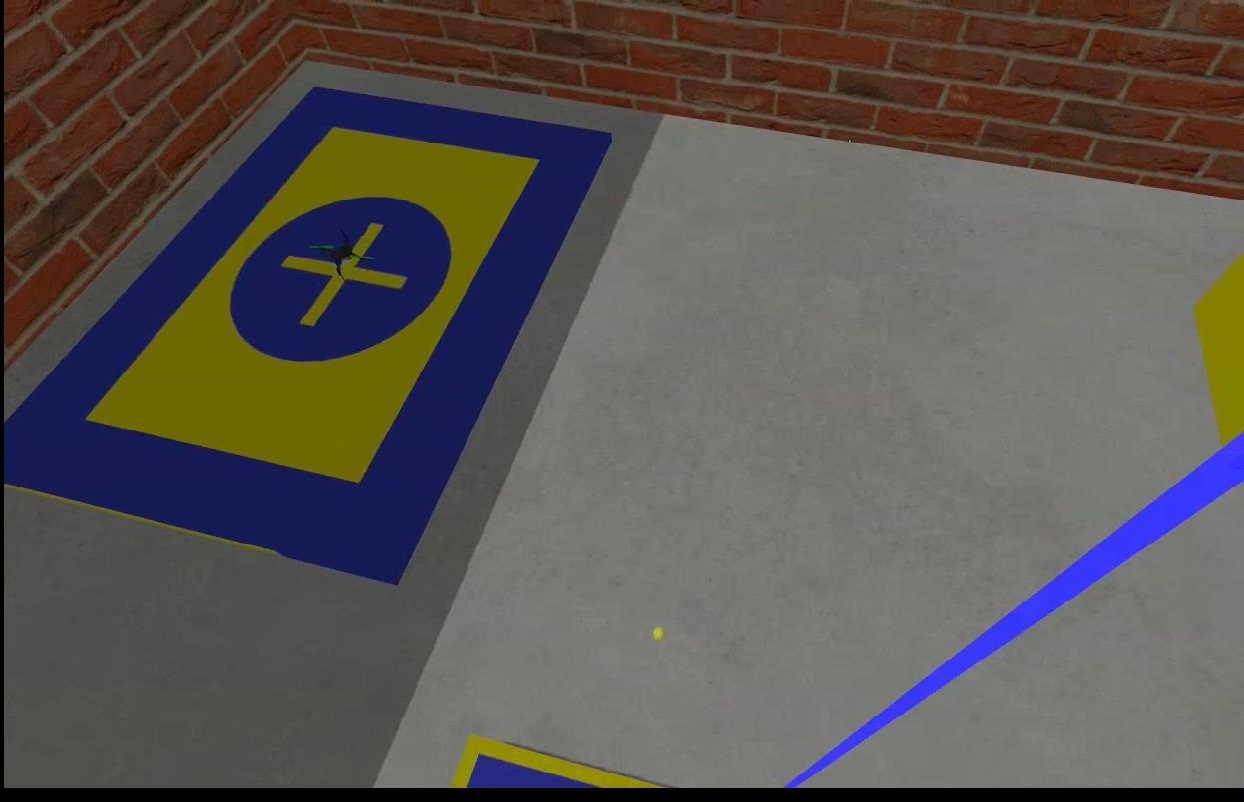large_base: (1, 85, 610, 590)
